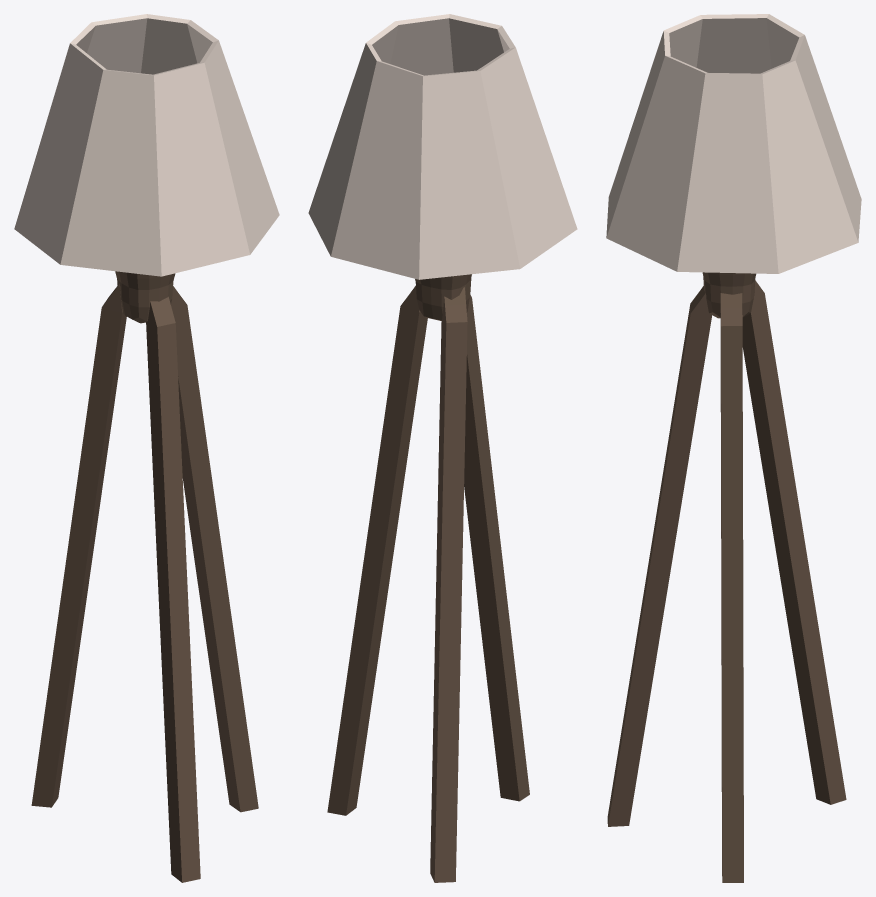
Rendered from Lamp_3.fbx.
3 renders of one model, left to right at view 1: azimuth 30°, elevation 25°; view 2: azimuth 150°, elevation 25°; view 3: azimuth 270°, elevation 25°, orthographic.
Visible parts, largest first — view 1: Lamp_3; view 2: Lamp_3; view 3: Lamp_3.
Part boxes in pixels (box(x1,y1,x2,y2)): Lamp_3: box(14, 14, 279, 882); Lamp_3: box(308, 14, 577, 882); Lamp_3: box(606, 14, 861, 882).
Size of the model in its own units: 57.5 by 57.82 by 197.
